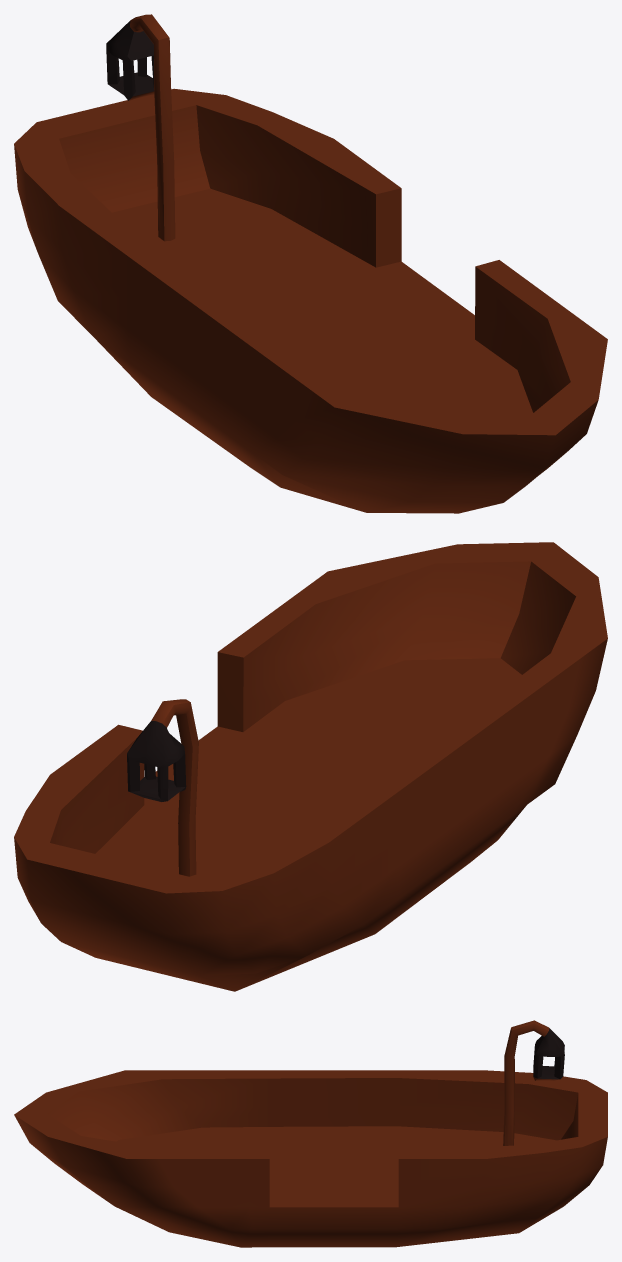
The model's file is Boat.fbx.
3 views of the same model, one above another, from view 1: azimuth 30°, elevation 25°; view 2: azimuth 150°, elevation 25°; view 3: azimuth 270°, elevation 25° (orthographic). The views are drawn at different scales.
Parts seen in each view (by area): view 1: Body; view 2: Body; view 3: Body.
Boxes of the visible parts, x1,y1,x2,y2 form: Body: (14, 14, 607, 513); Body: (14, 542, 607, 991); Body: (14, 1020, 607, 1247).
Bounding box in the file's own units: 5.26 × 5.13 × 14.87.
